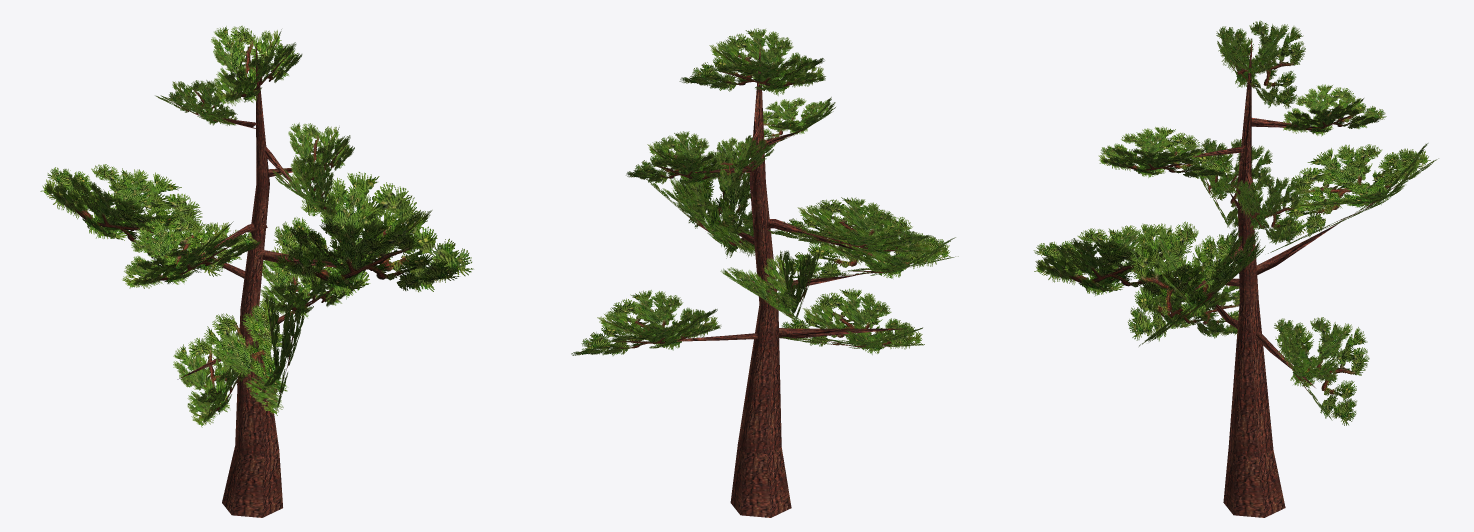
Rendered from tre_pine02.glb.
3 renders of one model, left to right at view 1: azimuth 30°, elevation 25°; view 2: azimuth 150°, elevation 25°; view 3: azimuth 270°, elevation 25°, orthographic.
Visible parts, largest first — view 1: tre_pine02_leaf, tre_pine02_pin; view 2: tre_pine02_leaf, tre_pine02_pin; view 3: tre_pine02_leaf, tre_pine02_pin.
Boxes of the visible parts, left/top/right/bottom form: tre_pine02_leaf: left=40, top=25, right=473, bottom=427; tre_pine02_pin: left=177, top=44, right=342, bottom=517; tre_pine02_leaf: left=571, top=28, right=958, bottom=355; tre_pine02_pin: left=643, top=44, right=906, bottom=517; tre_pine02_leaf: left=1033, top=20, right=1438, bottom=425; tre_pine02_pin: left=1177, top=38, right=1340, bottom=517.
Size of the model in its own units: 11.84 by 15.06 by 12.78.
Materials: 2 (2 with a texture image).
